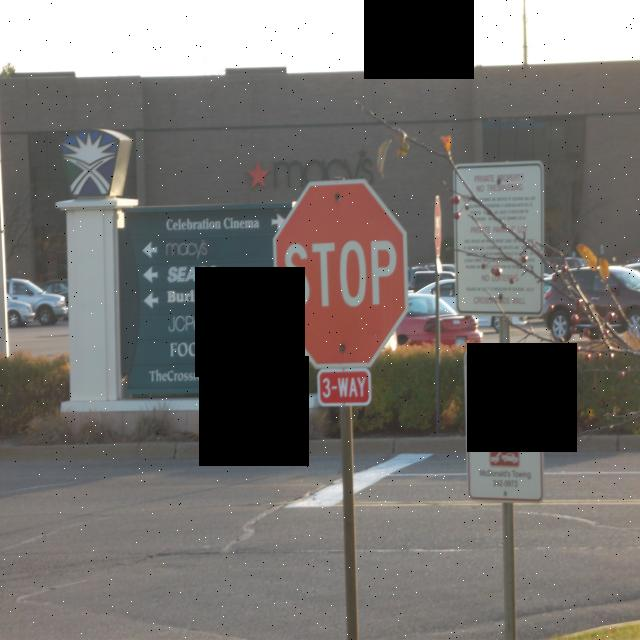regulatory: (450, 156, 550, 325), (461, 348, 548, 512), (311, 363, 380, 412)
stop: (271, 175, 412, 370)
